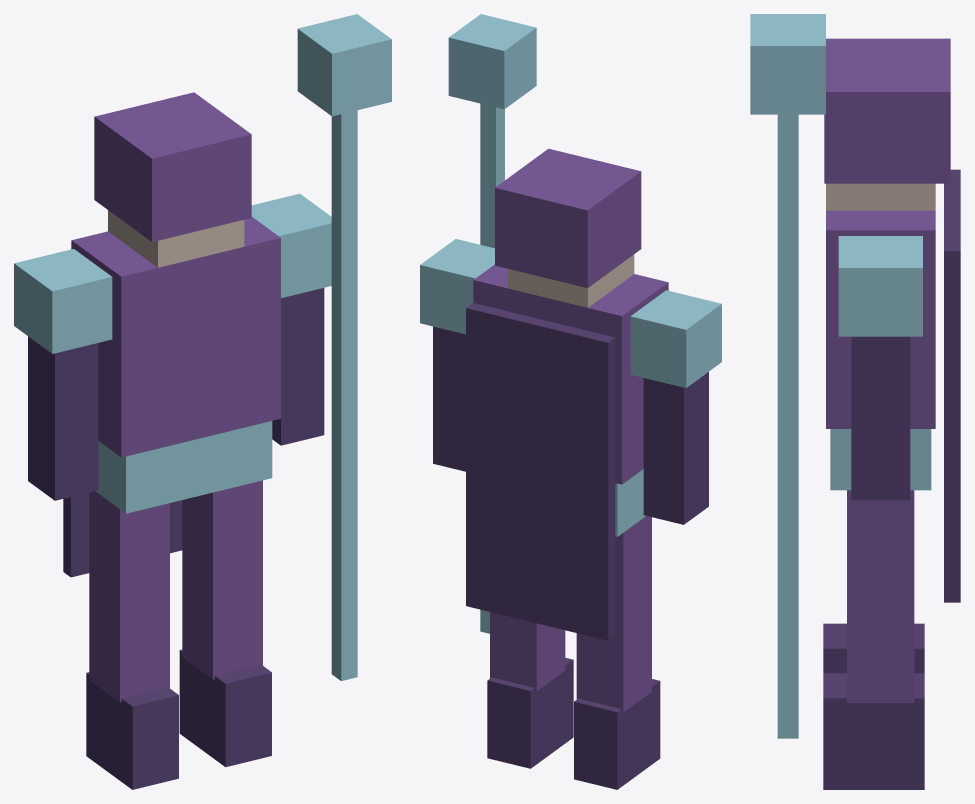
The model's file is archillusionist_vaelor.glb.
3 views of the same model, side by side, from view 1: azimuth 30°, elevation 25°; view 2: azimuth 150°, elevation 25°; view 3: azimuth 270°, elevation 25° (orthographic). The views are drawn at different scales.
Parts seen in each view (by area): view 1: archillusionist_vaelor; view 2: archillusionist_vaelor; view 3: archillusionist_vaelor.
Part boxes in pixels (x1,y1,x2,y2): archillusionist_vaelor: (14,14,391,789); archillusionist_vaelor: (420,14,721,789); archillusionist_vaelor: (750,14,960,789).
Size of the model in its own units: 1.12 by 2.59 by 0.625.
